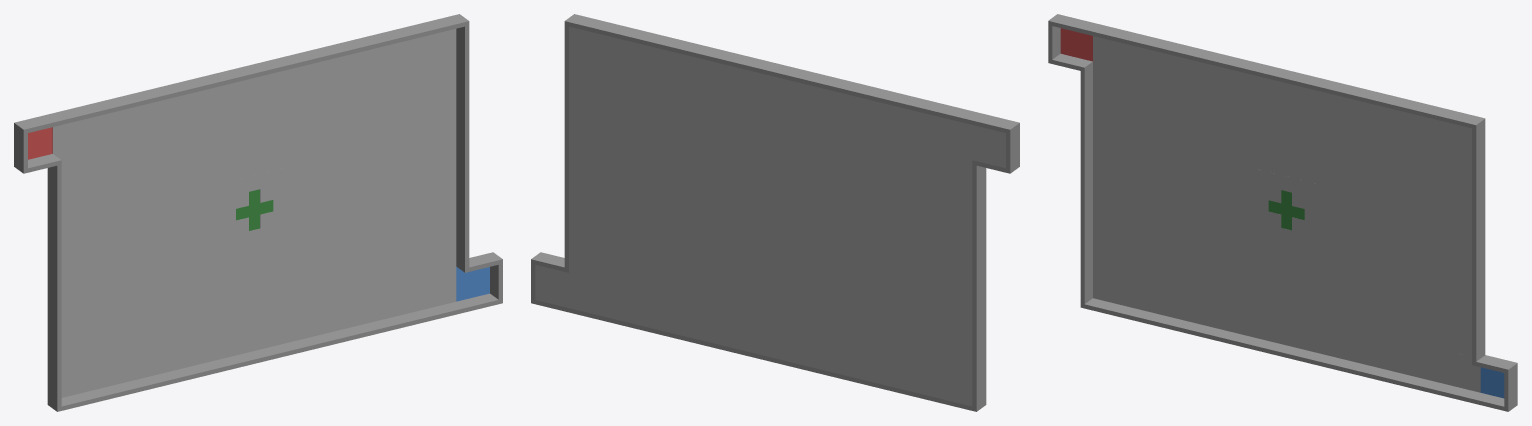
Rendered from field.fbx.
3 renders of one model, left to right at view 1: azimuth 30°, elevation 25°; view 2: azimuth 150°, elevation 25°; view 3: azimuth 330°, elevation 25°, orthographic. The views are drawn at different scales.
Visible parts, largest first — view 1: Body1 (×2); view 2: Body1 (×2); view 3: Body1 (×2).
Boxes of the visible parts, x1,y1,x2,y2 form: Body1 (×2): (14,14,502,411); Body1 (×2): (531,14,1019,411); Body1 (×2): (1048,14,1517,411).
Size of the model in its own units: 14.25 by 8.25 by 0.5.
